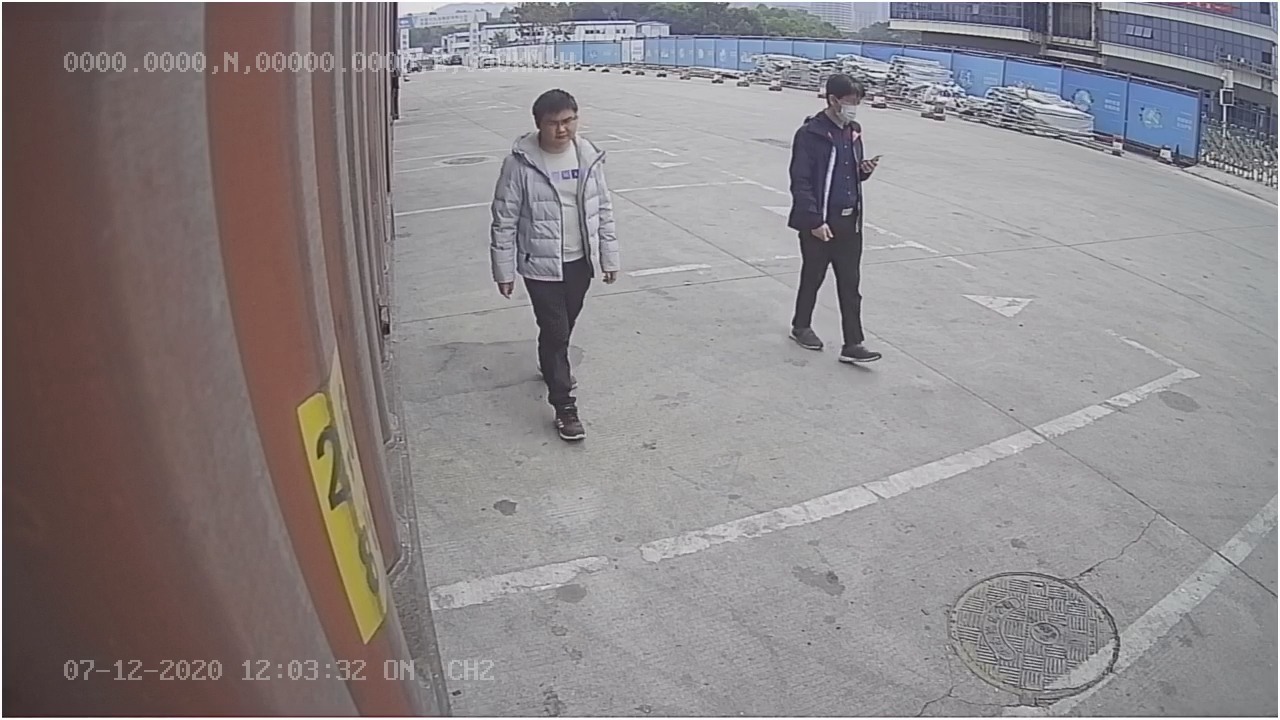person: (494, 88, 630, 445), (782, 66, 888, 368)
